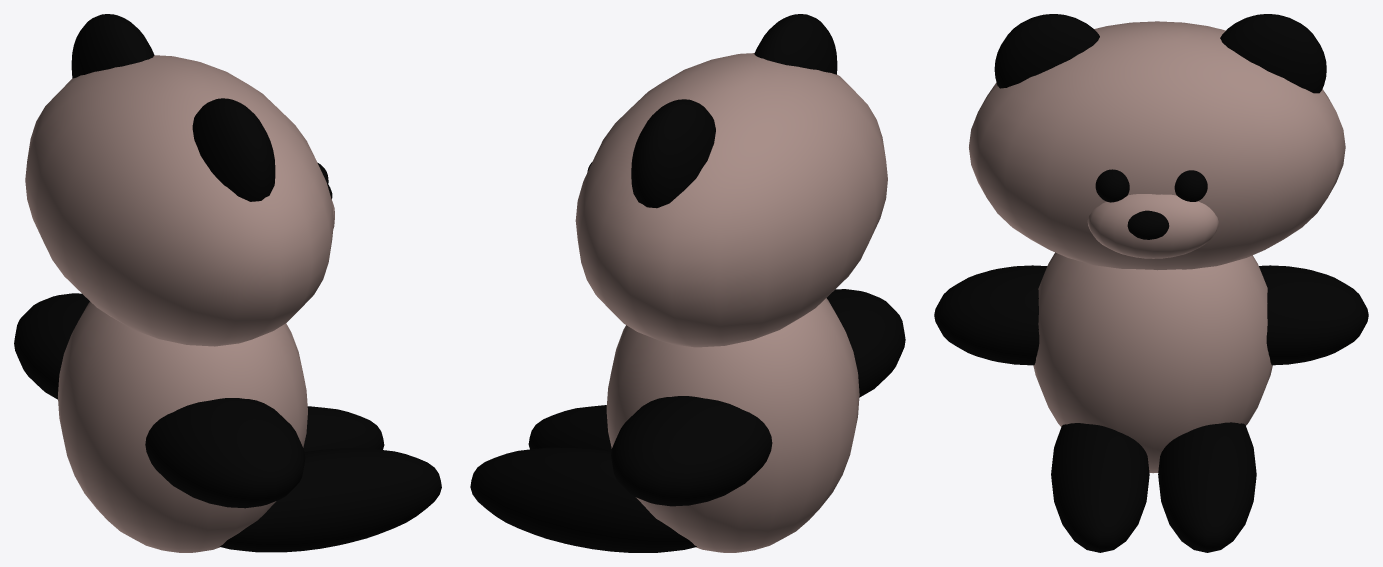
The model's file is Red Panda Plushie.fbx.
The picture shows the model from 3 angles, left to right: view 1: azimuth 30°, elevation 25°; view 2: azimuth 150°, elevation 25°; view 3: azimuth 270°, elevation 25°; orthographic projection. The views are drawn at different scales.
Parts seen in each view (by area): view 1: pSphere37, pSphere35, pSphere32, pSphere27, pSphere29, pSphere36, pSphere31, pSphere34; view 2: pSphere37, pSphere35, pSphere34, pSphere36, pSphere31, pSphere27, pSphere29, pSphere32; view 3: pSphere37, pSphere35, pSphere34, pSphere32, pSphere27, pSphere36, pSphere26, pSphere31, pSphere29, pSphere30, pSphere28, pSphere33.
Boxes of the visible parts, x1=… form: pSphere37: x1=25, y1=55, x2=333, y2=346; pSphere35: x1=58, y1=301, x2=307, y2=552; pSphere32: x1=219, y1=448, x2=441, y2=552; pSphere27: x1=145, y1=398, x2=305, y2=508; pSphere29: x1=192, y1=98, x2=275, y2=201; pSphere36: x1=14, y1=293, x2=89, y2=399; pSphere31: x1=71, y1=14, x2=154, y2=78; pSphere34: x1=303, y1=406, x2=384, y2=451; pSphere37: x1=575, y1=53, x2=887, y2=347; pSphere35: x1=606, y1=298, x2=859, y2=552; pSphere34: x1=470, y1=447, x2=696, y2=552; pSphere36: x1=611, y1=396, x2=772, y2=506; pSphere31: x1=631, y1=99, x2=715, y2=208; pSphere27: x1=827, y1=289, x2=905, y2=397; pSphere29: x1=754, y1=14, x2=837, y2=74; pSphere32: x1=528, y1=405, x2=611, y2=451; pSphere37: x1=969, y1=21, x2=1345, y2=270; pSphere35: x1=1033, y1=252, x2=1272, y2=473; pSphere34: x1=1158, y1=422, x2=1256, y2=552; pSphere32: x1=1051, y1=423, x2=1149, y2=552; pSphere27: x1=934, y1=265, x2=1047, y2=365; pSphere36: x1=1259, y1=265, x2=1368, y2=365; pSphere26: x1=1087, y1=194, x2=1218, y2=258; pSphere31: x1=1220, y1=14, x2=1326, y2=93; pSphere29: x1=994, y1=14, x2=1099, y2=88; pSphere30: x1=1127, y1=210, x2=1169, y2=239; pSphere28: x1=1095, y1=169, x2=1129, y2=202; pSphere33: x1=1174, y1=170, x2=1207, y2=201.
Bounding box in the file's own units: 4.6 × 6.16 × 5.37.
